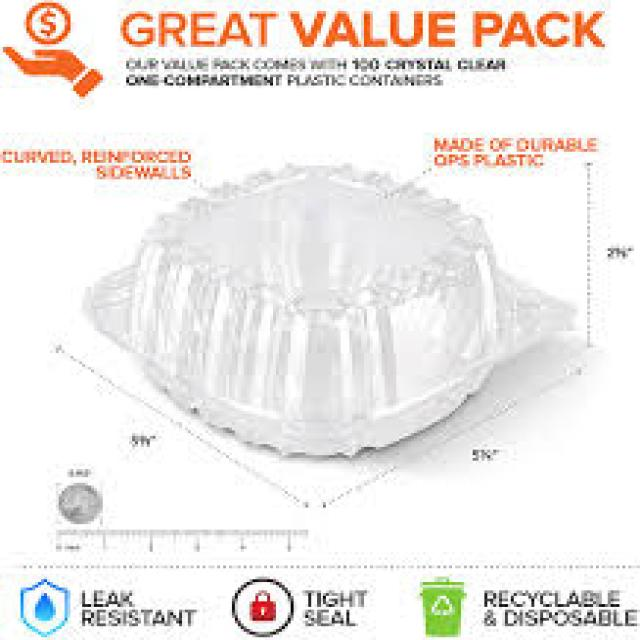disposable: (95, 166, 578, 464)
